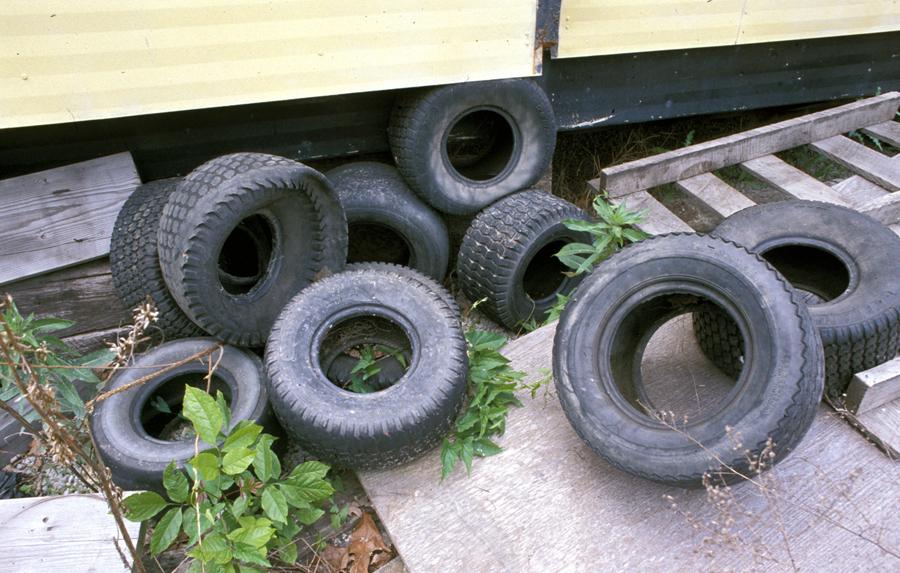tire: (549, 223, 826, 489), (245, 260, 497, 480), (155, 146, 359, 353), (697, 192, 900, 398), (81, 321, 272, 497), (386, 64, 560, 219), (449, 187, 596, 337), (322, 157, 453, 283)
